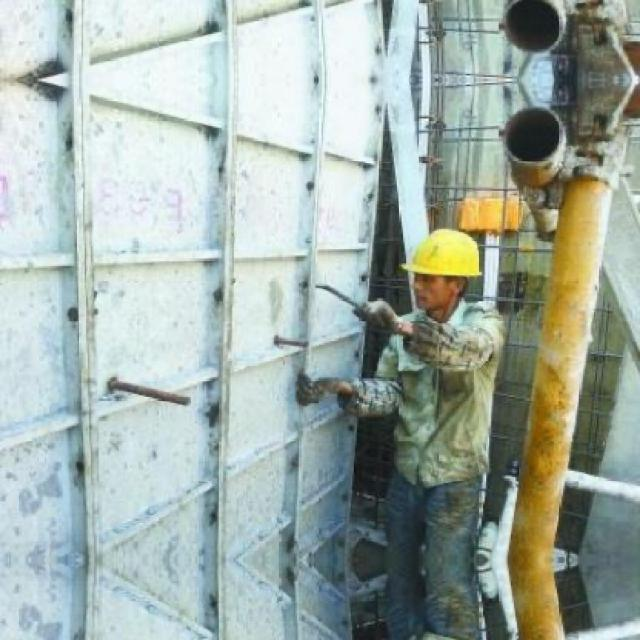helmet: (400, 221, 488, 314)
